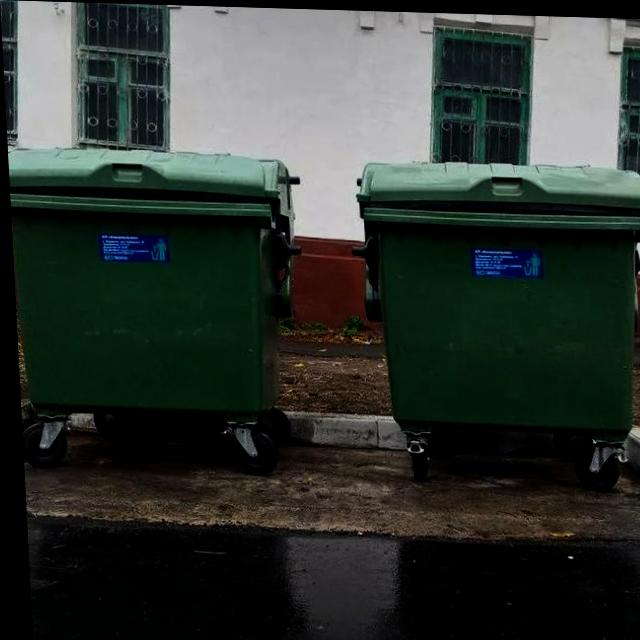Trash_Can_Closed: (6, 144, 298, 420), (353, 154, 640, 429)
